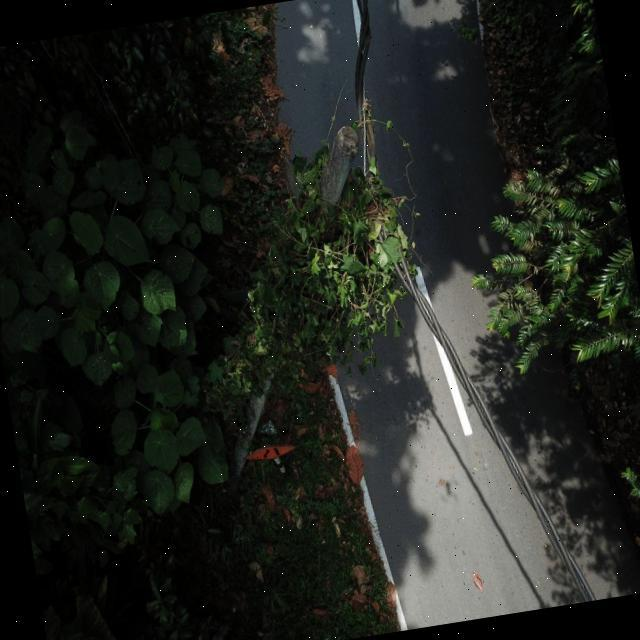critical vegetation: (161, 120, 436, 437)
